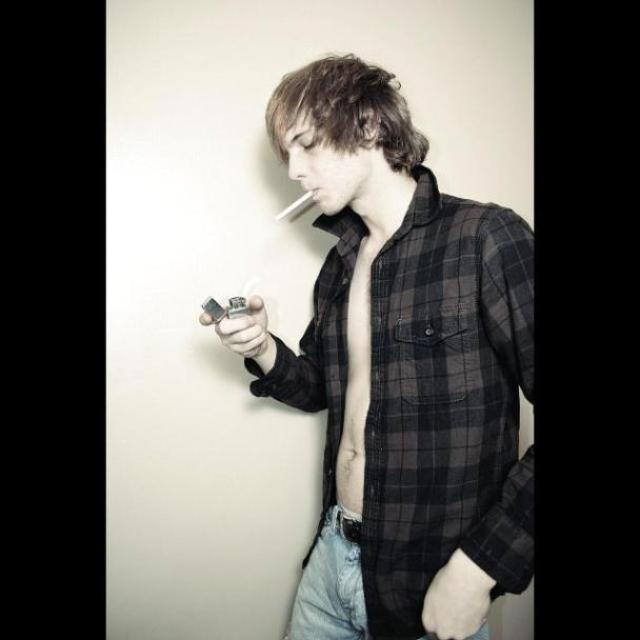rokok: (270, 187, 328, 229)
